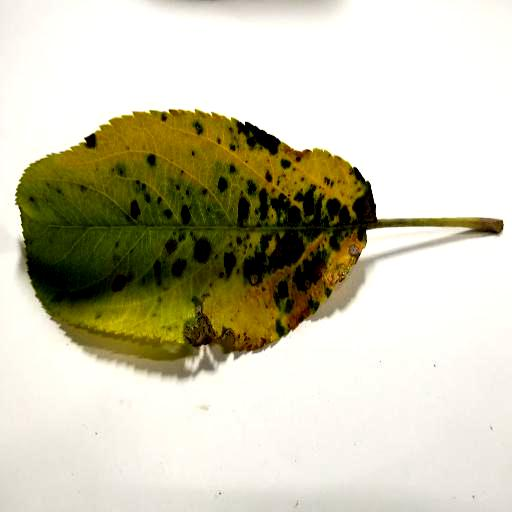Brown_Spot: (226, 181, 370, 226), (239, 228, 332, 283), (178, 319, 249, 350), (98, 252, 145, 289), (174, 240, 213, 273), (122, 200, 149, 223)
